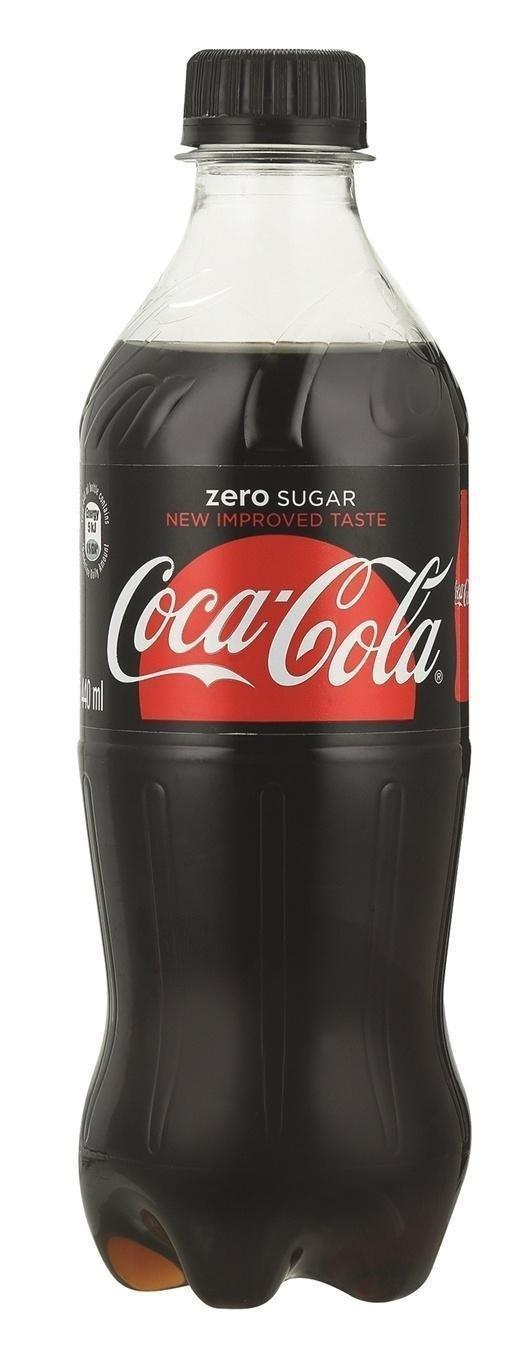bottle-plastic: (66, 31, 479, 1325)
